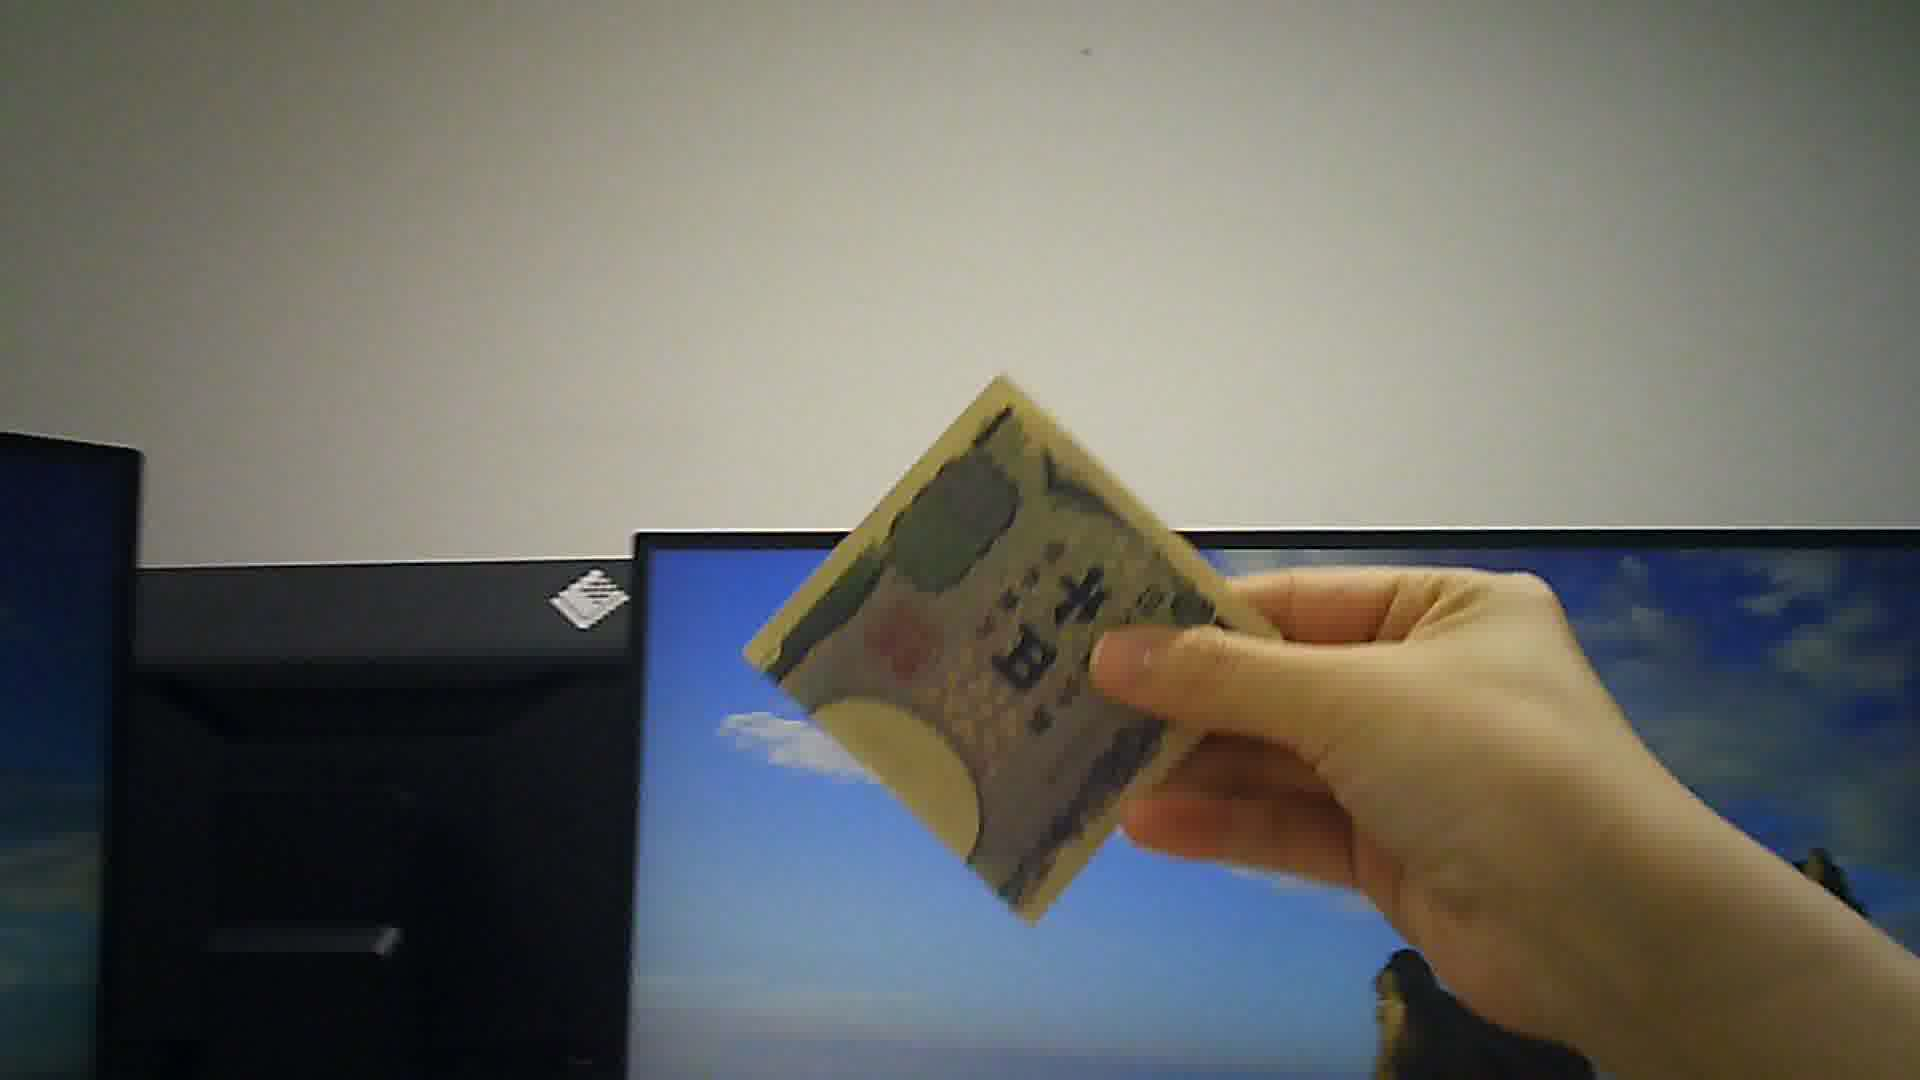1,000 Yen: (733, 359, 1275, 927)
